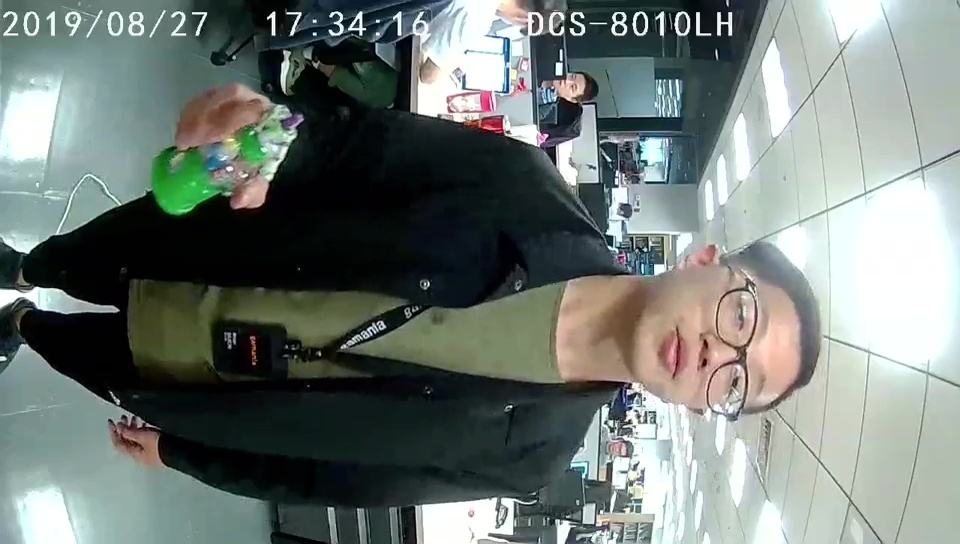buzz: (148, 98, 302, 217)
